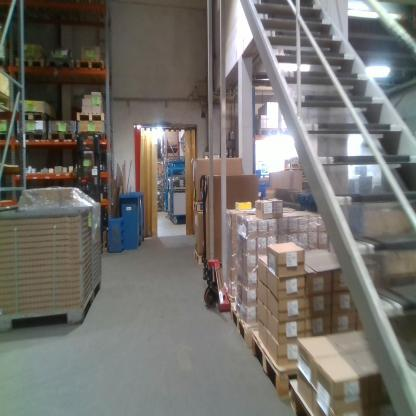pallet: (252, 326, 308, 402), (229, 300, 257, 350), (287, 378, 320, 413), (15, 54, 44, 73), (78, 58, 105, 76), (15, 130, 46, 145), (44, 57, 77, 71), (76, 109, 108, 122), (16, 113, 57, 123), (46, 130, 76, 143), (0, 91, 13, 116), (78, 130, 108, 140), (194, 246, 205, 266), (192, 198, 204, 211)
pallet_truck: (200, 173, 233, 314), (75, 128, 104, 260)
stillage: (1, 195, 104, 337)
